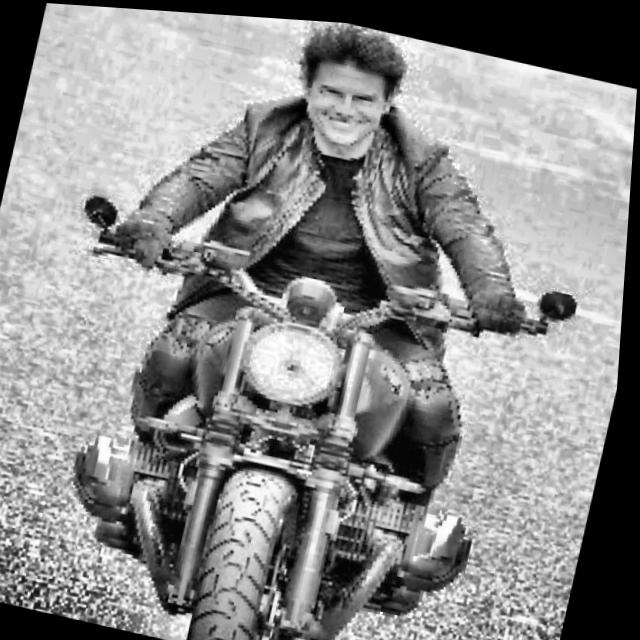motorcycle: (0, 161, 628, 640)
